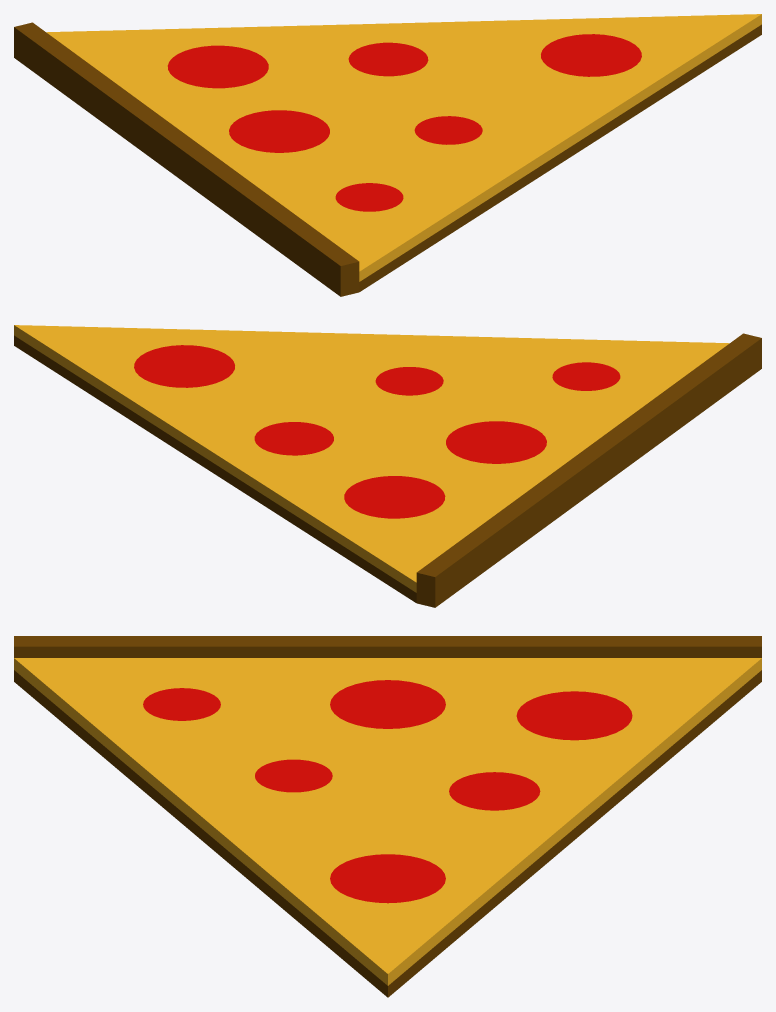
Rendered from food_pizza.fbx.
The picture shows the model from 3 angles, top to bottom: view 1: azimuth 30°, elevation 25°; view 2: azimuth 150°, elevation 25°; view 3: azimuth 270°, elevation 25°; orthographic projection. The views are drawn at different scales.
Visible parts, largest first — view 1: Cube, Circle; view 2: Cube, Circle; view 3: Cube, Circle.
Boxes of the visible parts, <box> form: Cube: <box>14,14,761,296</box>; Circle: <box>167,34,641,211</box>; Cube: <box>14,325,761,607</box>; Circle: <box>134,345,620,518</box>; Cube: <box>14,636,761,997</box>; Circle: <box>143,680,632,903</box>.
Size of the model in its own units: 207 by 10.39 by 200.
